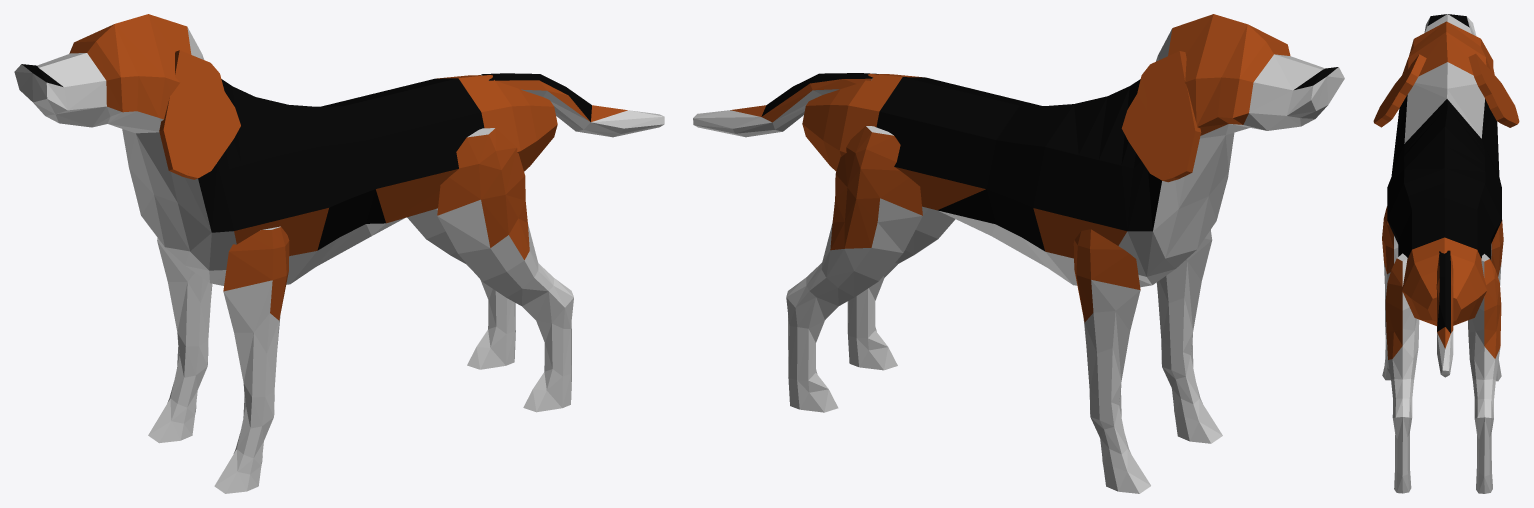
The model's file is beagle.obj.
3 views of the same model, side by side, from view 1: azimuth 30°, elevation 25°; view 2: azimuth 150°, elevation 25°; view 3: azimuth 270°, elevation 25° (orthographic). The views are drawn at different scales.
Parts seen in each view (by area): view 1: body_Cylinder, hind_leg.002_Cylinder.006, front_leg.002_Cylinder.005, ear.002_Cube.002, front_leg_Cylinder.001, tail_Cylinder.003, hind_leg_Cylinder.002; view 2: body_Cylinder, hind_leg_Cylinder.002, front_leg_Cylinder.001, ear_Cube, front_leg.002_Cylinder.005, tail_Cylinder.003, hind_leg.002_Cylinder.006; view 3: body_Cylinder, hind_leg.002_Cylinder.006, hind_leg_Cylinder.002, tail_Cylinder.003, ear_Cube, ear.002_Cube.002, front_leg.002_Cylinder.005, front_leg_Cylinder.001.
Part boxes in pixels (x1=…): body_Cylinder: x1=14, y1=14, x2=557, y2=285; hind_leg.002_Cylinder.006: x1=437, y1=128, x2=573, y2=412; front_leg.002_Cylinder.005: x1=214, y1=226, x2=289, y2=493; ear.002_Cube.002: x1=159, y1=50, x2=240, y2=179; front_leg_Cylinder.001: x1=148, y1=238, x2=212, y2=443; tail_Cylinder.003: x1=481, y1=73, x2=664, y2=137; hind_leg_Cylinder.002: x1=407, y1=208, x2=515, y2=369; body_Cylinder: x1=802, y1=14, x2=1344, y2=287; hind_leg_Cylinder.002: x1=786, y1=126, x2=922, y2=412; front_leg_Cylinder.001: x1=1073, y1=229, x2=1150, y2=493; ear_Cube: x1=1121, y1=51, x2=1201, y2=182; front_leg.002_Cylinder.005: x1=1156, y1=230, x2=1222, y2=443; tail_Cylinder.003: x1=693, y1=73, x2=878, y2=137; hind_leg.002_Cylinder.006: x1=847, y1=206, x2=955, y2=370; body_Cylinder: x1=1387, y1=14, x2=1501, y2=325; hind_leg.002_Cylinder.006: x1=1385, y1=253, x2=1419, y2=493; hind_leg_Cylinder.002: x1=1468, y1=254, x2=1501, y2=493; tail_Cylinder.003: x1=1436, y1=250, x2=1453, y2=377; ear_Cube: x1=1468, y1=53, x2=1519, y2=127; ear.002_Cube.002: x1=1373, y1=54, x2=1426, y2=127; front_leg.002_Cylinder.005: x1=1382, y1=206, x2=1398, y2=380; front_leg_Cylinder.001: x1=1491, y1=220, x2=1503, y2=381.
Size of the model in its own units: 3.33 by 2.33 by 0.9419.
